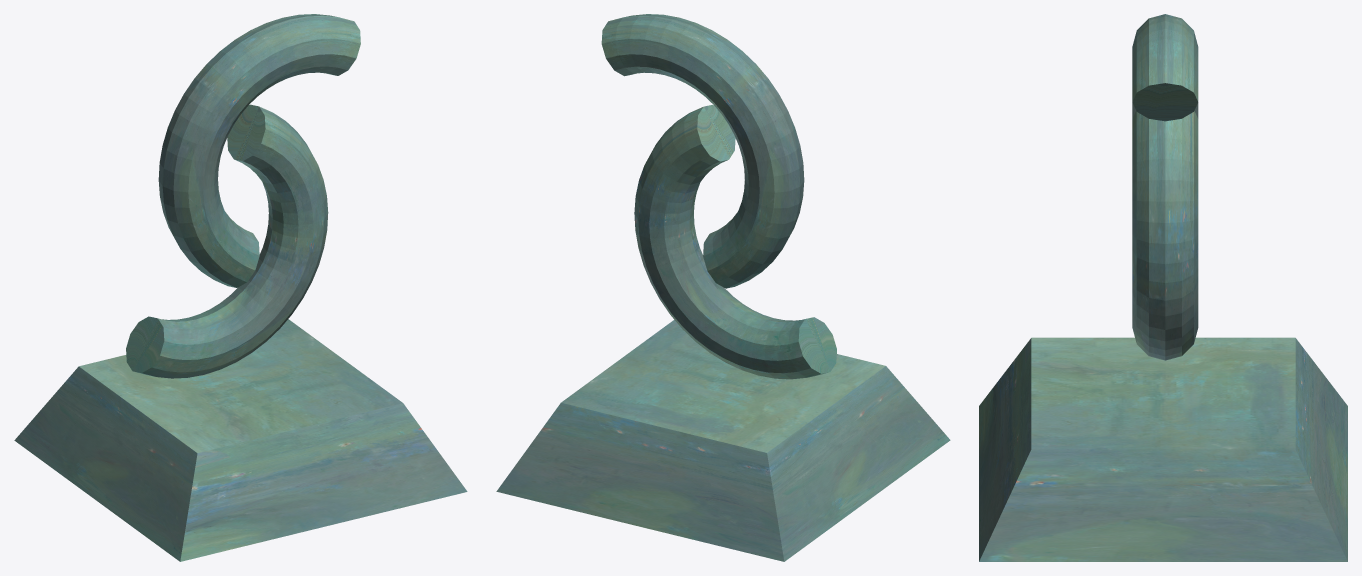
Rendered from Sculpture.fbx.
3 renders of one model, left to right at view 1: azimuth 30°, elevation 25°; view 2: azimuth 150°, elevation 25°; view 3: azimuth 270°, elevation 25°, orthographic. The views are drawn at different scales.
Parts seen in each view (by area): view 1: Sculpture; view 2: Sculpture; view 3: Sculpture.
Boxes of the visible parts, left/top/right/bottom form: Sculpture: left=14, top=14, right=467, bottom=561; Sculpture: left=496, top=14, right=950, bottom=561; Sculpture: left=979, top=14, right=1347, bottom=561.
Bounding box in the file's own units: 130 × 187 × 130.
Materials: 1 (1 with a texture image).
